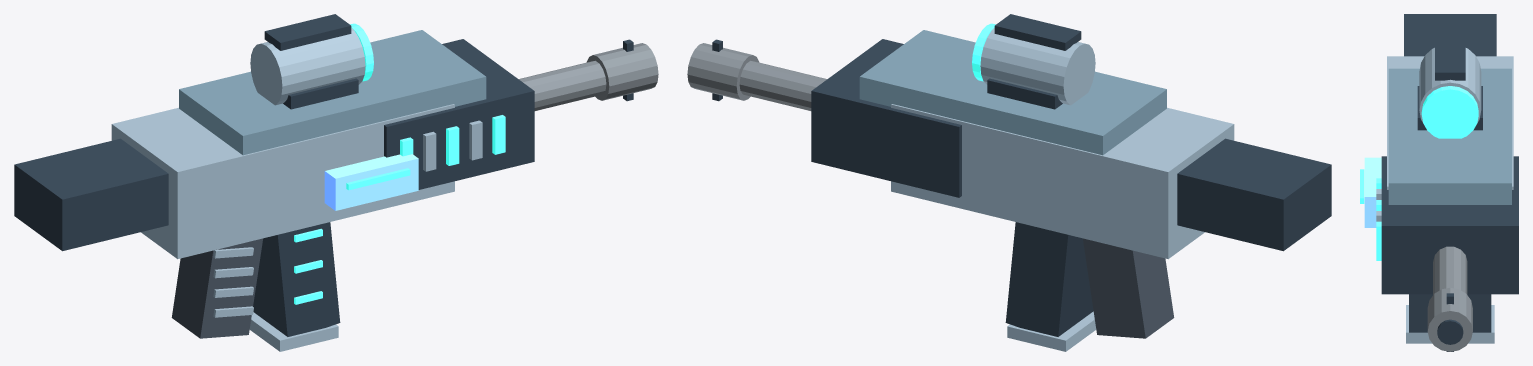
Rendered from smg.glb.
The picture shows the model from 3 angles, left to right: view 1: azimuth 30°, elevation 25°; view 2: azimuth 150°, elevation 25°; view 3: azimuth 270°, elevation 25°; orthographic projection. The views are drawn at different scales.
Visible parts, largest first — view 1: SMG_Receiver, SMG_Upper_Shroud, SMG_Stock, SMG_Front_Handguard, MAGAZINE, SMG_Grip, SMG_MicroSight_tube, Side_Battery, SMG_Barrel, SMG_Muzzle, SMG_MicroSight_rail, MAGAZINE_baseplate (+7 smaller); view 2: SMG_Receiver, SMG_Upper_Shroud, SMG_Stock, SMG_Front_Handguard, MAGAZINE, SMG_Grip, SMG_MicroSight_tube, SMG_Barrel, SMG_Muzzle, SMG_MicroSight_rail, MAGAZINE_baseplate, SMG_MicroSight_mount (+1 smaller); view 3: SMG_Upper_Shroud, SMG_Front_Handguard, SMG_Stock, SMG_MicroSight_ring, SMG_Muzzle, SMG_MicroSight_tube, MAGAZINE, SMG_Barrel, SMG_Receiver, SMG_MicroSight_rail, Side_Battery, MAGAZINE_baseplate (+4 smaller).
Boxes of the visible parts, <box> form: SMG_Receiver: <box>111,104,454,259</box>; SMG_Upper_Shroud: <box>179,30,486,155</box>; SMG_Stock: <box>14,138,168,251</box>; SMG_Front_Handguard: <box>384,39,534,189</box>; MAGAZINE: <box>253,222,340,336</box>; SMG_Grip: <box>171,238,262,338</box>; SMG_MicroSight_tube: <box>250,28,365,105</box>; Side_Battery: <box>324,154,418,210</box>; SMG_Barrel: <box>519,60,606,110</box>; SMG_Muzzle: <box>586,43,658,100</box>; SMG_MicroSight_rail: <box>264,14,351,50</box>; MAGAZINE_baseplate: <box>249,312,338,351</box>; SMG_Receiver: <box>891,104,1234,259</box>; SMG_Upper_Shroud: <box>859,30,1166,155</box>; SMG_Stock: <box>1177,138,1331,251</box>; SMG_Front_Handguard: <box>811,39,961,197</box>; MAGAZINE: <box>1005,222,1093,336</box>; SMG_Grip: <box>1083,238,1174,338</box>; SMG_MicroSight_tube: <box>980,28,1095,105</box>; SMG_Barrel: <box>739,60,826,110</box>; SMG_Muzzle: <box>687,43,759,100</box>; SMG_MicroSight_rail: <box>994,14,1081,50</box>; MAGAZINE_baseplate: <box>1007,311,1096,351</box>; SMG_MicroSight_mount: <box>987,78,1062,109</box>; SMG_Upper_Shroud: <box>1388,68,1511,204</box>; SMG_Front_Handguard: <box>1381,156,1518,294</box>; SMG_Stock: <box>1404,14,1496,56</box>; SMG_MicroSight_ring: <box>1421,86,1478,138</box>; SMG_Muzzle: <box>1427,287,1472,351</box>; SMG_MicroSight_tube: <box>1419,47,1481,123</box>; MAGAZINE: <box>1409,294,1491,332</box>; SMG_Barrel: <box>1433,246,1467,294</box>; SMG_Receiver: <box>1387,56,1513,189</box>; SMG_MicroSight_rail: <box>1435,39,1465,80</box>; Side_Battery: <box>1364,157,1381,227</box>; MAGAZINE_baseplate: <box>1406,305,1494,343</box>.
Size of the model in its own units: 1.99 by 0.9126 by 0.463.
